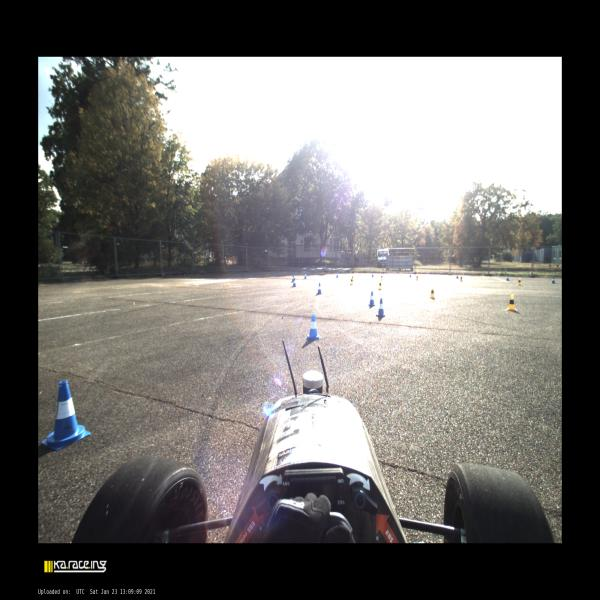blue_cone: (41, 380, 91, 451), (306, 313, 320, 340), (376, 298, 386, 317), (369, 290, 376, 306), (316, 282, 321, 294), (292, 278, 297, 287), (551, 277, 556, 283), (506, 275, 510, 281), (291, 275, 294, 282), (304, 272, 307, 278), (456, 273, 459, 279), (372, 271, 374, 278), (336, 272, 338, 278), (410, 272, 412, 278)
yellow_cone: (507, 294, 518, 312), (430, 287, 436, 299), (517, 278, 522, 286), (378, 281, 382, 290), (460, 275, 463, 282), (350, 278, 353, 285), (380, 274, 383, 281), (416, 274, 418, 281), (351, 275, 353, 281)
